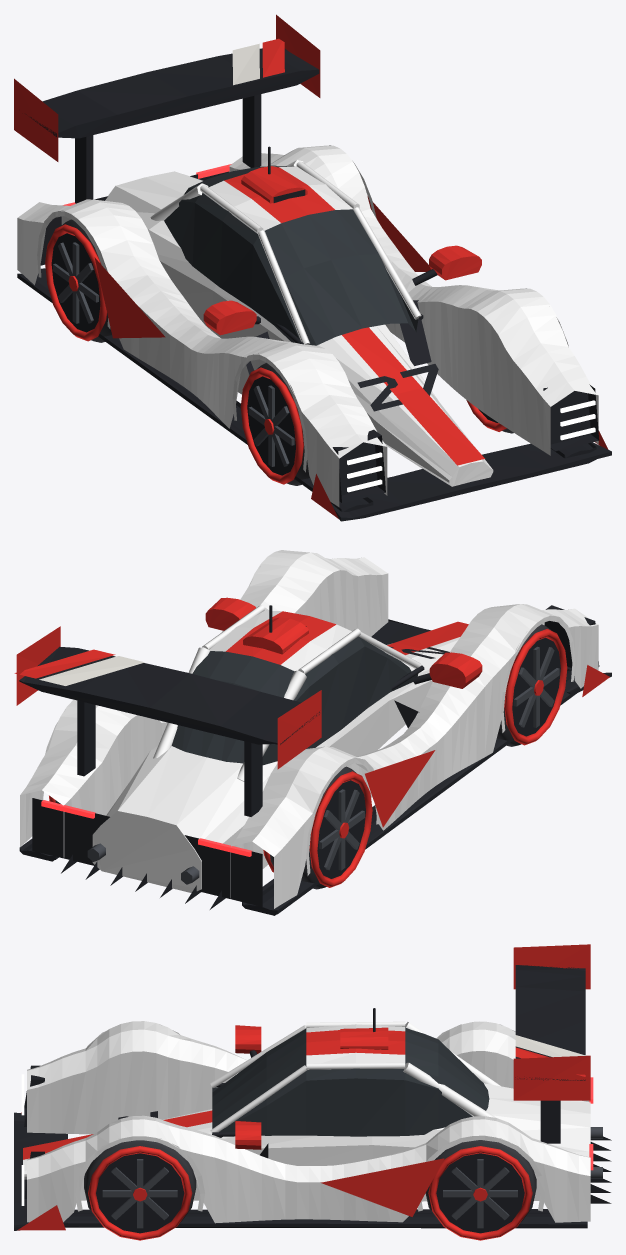
The model's file is endurance.glb.
3 views of the same model, one above another, from view 1: azimuth 30°, elevation 25°; view 2: azimuth 150°, elevation 25°; view 3: azimuth 270°, elevation 25° (orthographic). The views are drawn at different scales.
Visible parts, largest first — view 1: white:2, black:2, glass:2, red:2, black:0 (×3), red:0 (×2), white:0, metal:0 (×2), lamp:0, whiteAccent:2; view 2: white:2, black:2, red:2, glass:2, black:0 (×3), red:0 (×2), metal:0 (×3), white:0, whiteAccent:2, tail:0; view 3: white:2, glass:2, red:2, black:2, black:0 (×3), red:0 (×2), white:0, metal:0 (×2), rubber:0 (×2), whiteAccent:2.
Boxes of the visible parts, x1,y1,x2,y2 form: white:2: (17, 145, 598, 506); black:2: (17, 48, 611, 521); glass:2: (164, 166, 418, 345); red:2: (14, 14, 608, 518); black:0 (×3): (51, 94, 437, 475); red:0 (×2): (45, 224, 303, 484); white:0: (150, 160, 421, 344); metal:0 (×2): (53, 242, 294, 466); lamp:0: (347, 400, 595, 492); whiteAccent:2: (232, 43, 259, 85); white:2: (20, 550, 598, 908); black:2: (19, 605, 611, 915); red:2: (14, 597, 609, 827); glass:2: (172, 636, 417, 765); black:0 (×3): (77, 605, 560, 878); red:0 (×2): (263, 629, 567, 887); metal:0 (×3): (87, 646, 559, 884); white:0: (153, 605, 421, 781); whiteAccent:2: (39, 656, 144, 685); tail:0: (41, 800, 251, 856); white:2: (23, 1021, 590, 1223); glass:2: (212, 1026, 489, 1137); red:2: (17, 944, 590, 1230); black:2: (14, 965, 611, 1230); black:0 (×3): (96, 1008, 560, 1233); red:0 (×2): (88, 1146, 532, 1240); white:0: (210, 1021, 500, 1133); metal:0 (×2): (102, 1159, 517, 1228); rubber:0 (×2): (84, 1140, 536, 1223); whiteAccent:2: (515, 1035, 585, 1057).
Size of the model in its own units: 2.73 by 2.08 by 5.97.
